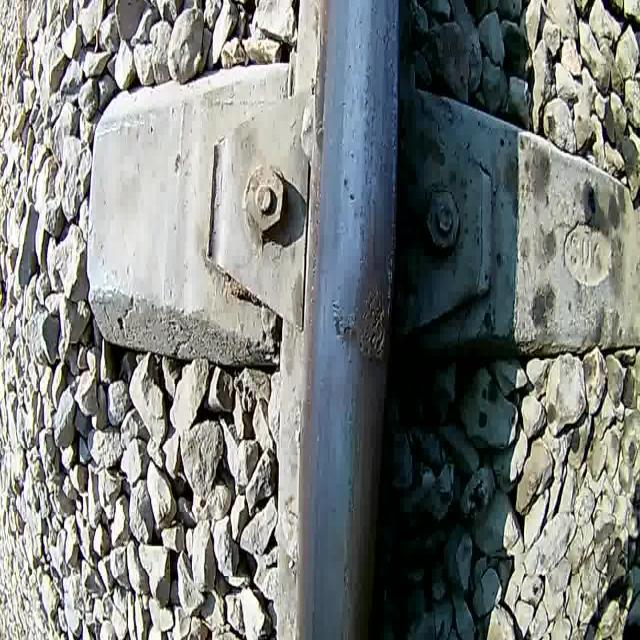Spallings: (357, 278, 391, 368)
Squats: (330, 292, 360, 353)
